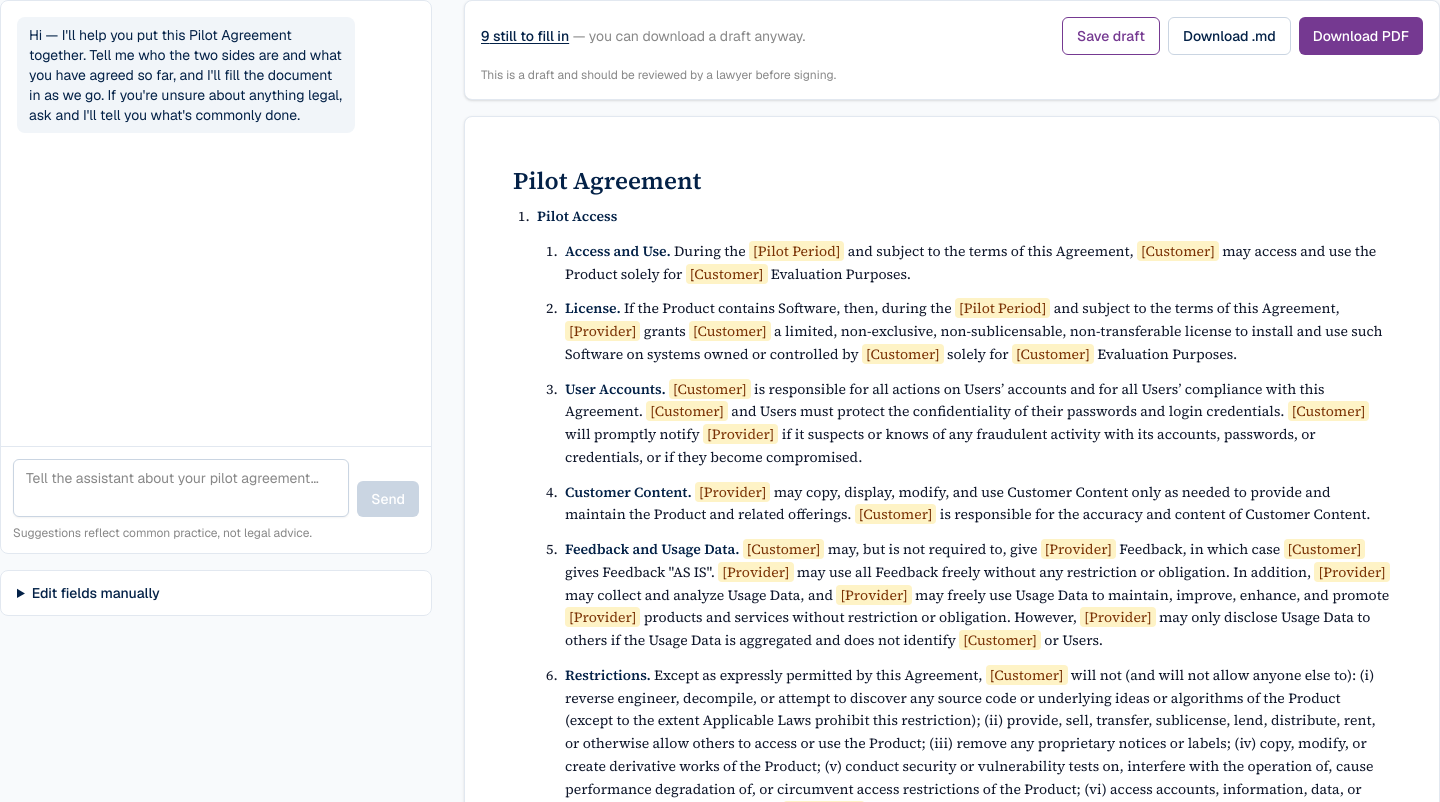
Scenario: the creator › writes what the assistant established into the document
Type "Ninety days." into the text box named "Message the drafting assistant". click: (181, 488)
box: [13,459,349,517]
Then press Enter
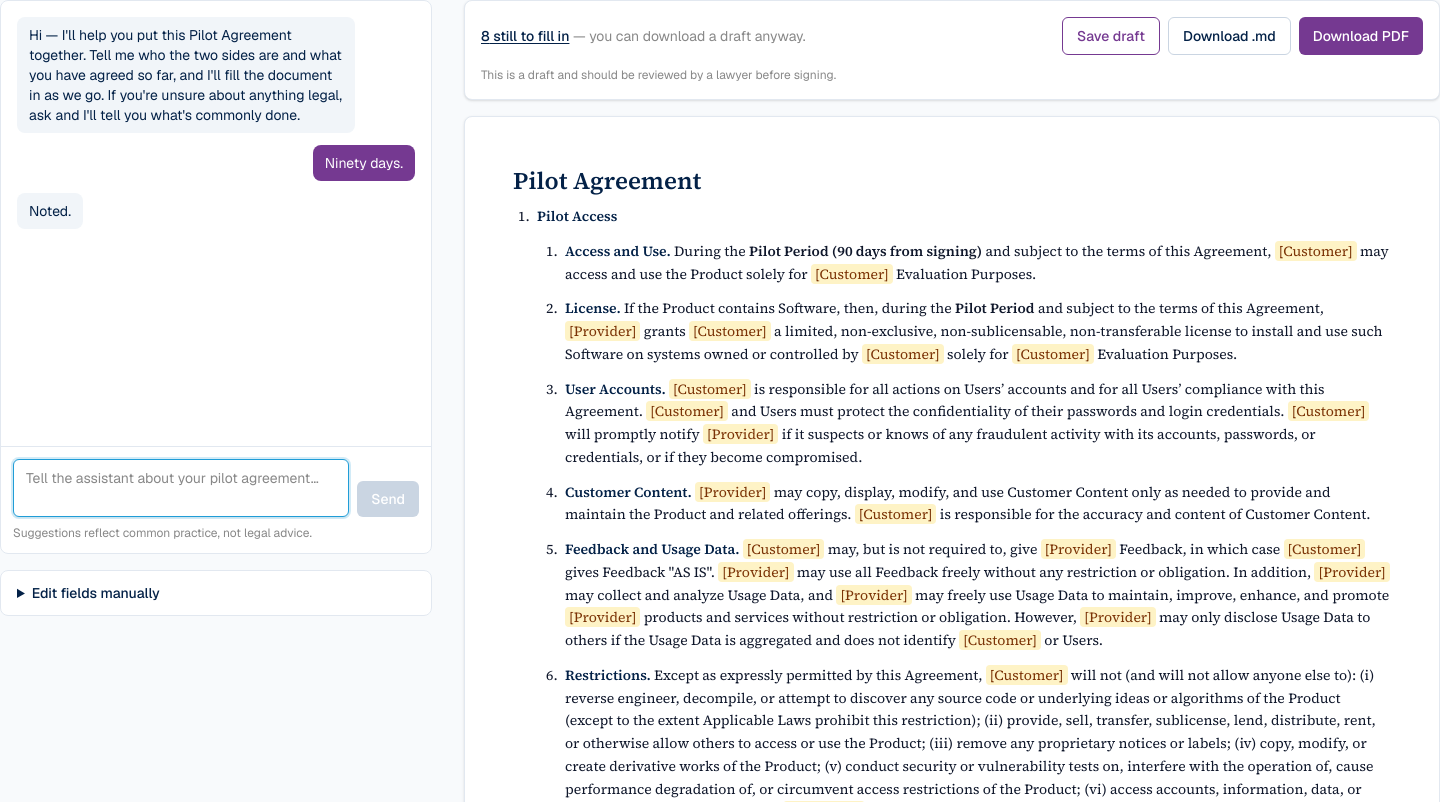
expect the text "Pilot Period (90 days from signing)" is shown: met, box [749,241,982,261]
